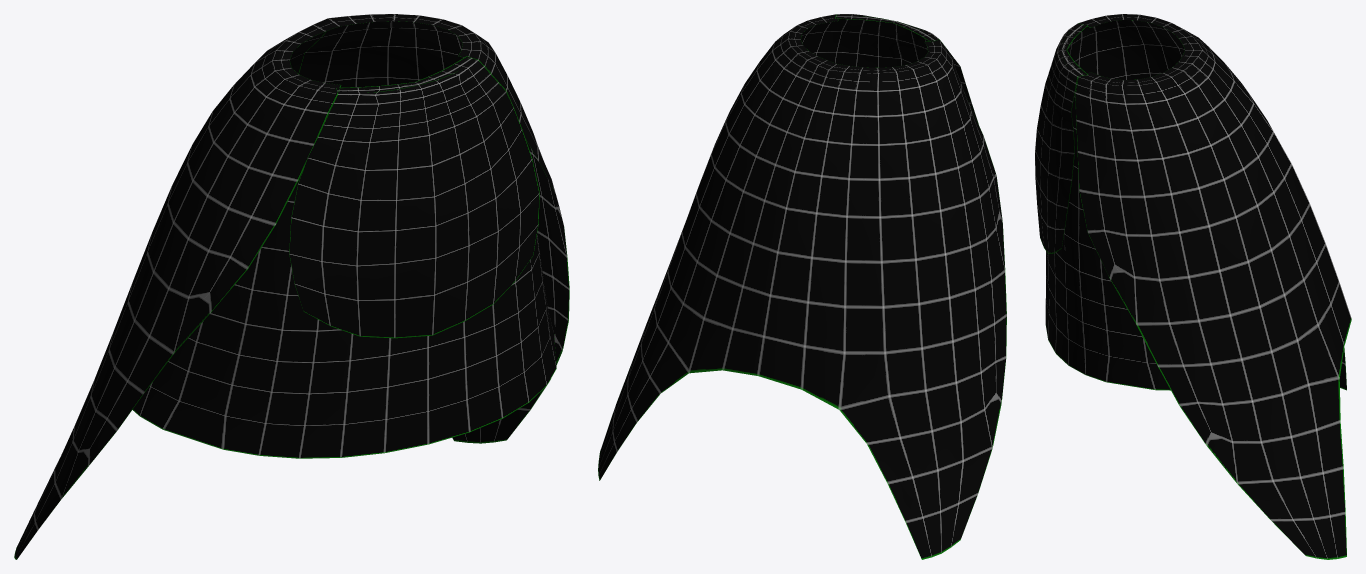
Rendered from shield_skirt_test_high.fbx.
3 views of the same model, side by side, from view 1: azimuth 30°, elevation 25°; view 2: azimuth 150°, elevation 25°; view 3: azimuth 270°, elevation 25° (orthographic). The views are drawn at different scales.
Visible parts, largest first — view 1: shield_skirt002; view 2: shield_skirt002; view 3: shield_skirt002.
Part boxes in pixels (box(x1,y1,x2,y2)): shield_skirt002: box(14, 14, 569, 559); shield_skirt002: box(598, 14, 1006, 559); shield_skirt002: box(1035, 14, 1351, 559).
Size of the model in its own units: 47.88 by 50.56 by 34.26.
